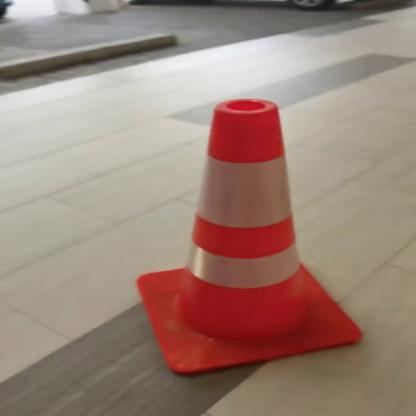cone: (96, 91, 374, 382)
